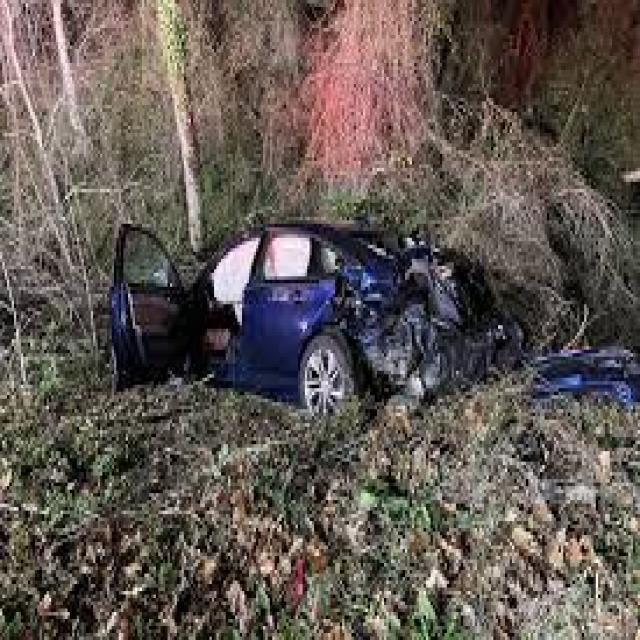accident: (94, 177, 515, 448)
